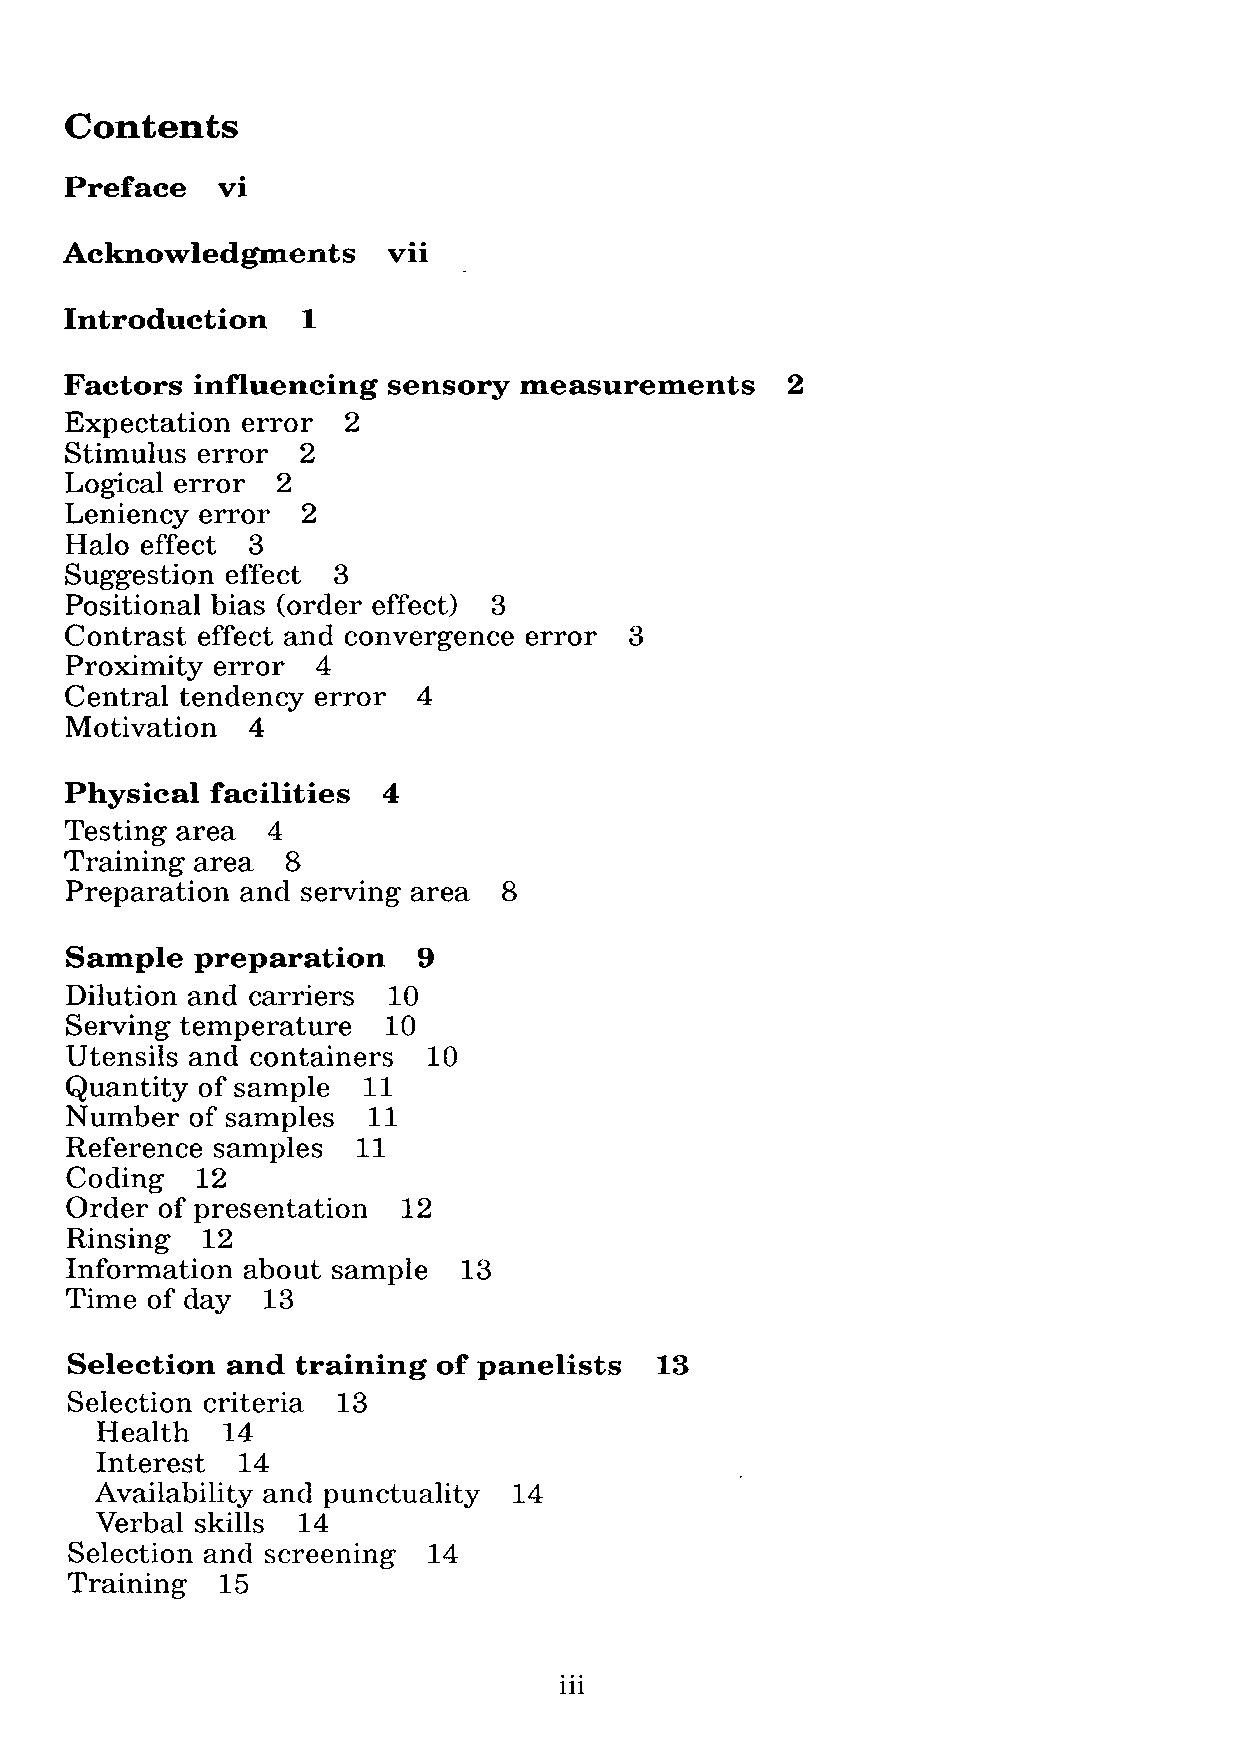TOC_chapter: (60, 366, 756, 403), (56, 1347, 624, 1380), (62, 623, 599, 650), (63, 879, 472, 909), (63, 590, 458, 620), (62, 942, 386, 974), (56, 680, 391, 711), (64, 1253, 429, 1282), (91, 1478, 479, 1503), (66, 1539, 397, 1567), (60, 776, 354, 807), (62, 238, 362, 267), (64, 1043, 395, 1070), (63, 1133, 327, 1164), (64, 1011, 352, 1039), (64, 1074, 337, 1103), (62, 407, 315, 437), (64, 980, 356, 1007), (60, 299, 270, 336), (62, 1194, 368, 1219), (64, 1386, 305, 1416), (56, 847, 259, 878), (62, 561, 303, 586), (60, 1104, 335, 1126), (60, 654, 287, 676), (62, 470, 243, 498), (63, 501, 272, 525), (66, 1286, 229, 1317), (60, 817, 239, 845), (63, 443, 266, 467), (59, 166, 188, 204), (93, 1508, 270, 1535), (60, 714, 221, 742), (63, 530, 221, 558), (64, 1224, 173, 1253), (64, 1570, 187, 1596), (94, 1448, 207, 1474), (94, 1418, 195, 1445), (63, 1165, 164, 1190)
TOC_pagenumber: (386, 238, 432, 268), (335, 1385, 376, 1420), (656, 1347, 696, 1378), (399, 1193, 437, 1224), (507, 1478, 544, 1508), (213, 170, 250, 199), (458, 1253, 493, 1282), (382, 1011, 419, 1037), (384, 982, 421, 1008), (259, 1286, 297, 1310), (219, 1570, 254, 1596), (199, 1227, 238, 1249), (195, 1166, 231, 1190), (297, 1508, 329, 1534), (428, 1541, 462, 1565), (220, 1418, 255, 1441), (366, 1104, 399, 1129), (356, 1135, 386, 1159), (238, 1448, 268, 1472), (425, 1044, 458, 1067), (361, 1074, 393, 1096), (413, 943, 437, 972), (299, 302, 322, 331), (497, 878, 521, 905), (378, 776, 400, 805), (310, 651, 334, 676), (625, 621, 647, 650), (246, 715, 270, 739), (340, 409, 364, 433), (412, 682, 435, 706), (297, 499, 319, 523), (784, 370, 807, 395), (484, 592, 507, 615), (297, 442, 319, 464), (274, 470, 295, 493), (330, 564, 352, 584), (246, 531, 264, 554), (285, 848, 301, 874), (268, 815, 283, 840)
chapter: (60, 106, 244, 144)
content_pagenumber: (548, 1664, 588, 1702)
